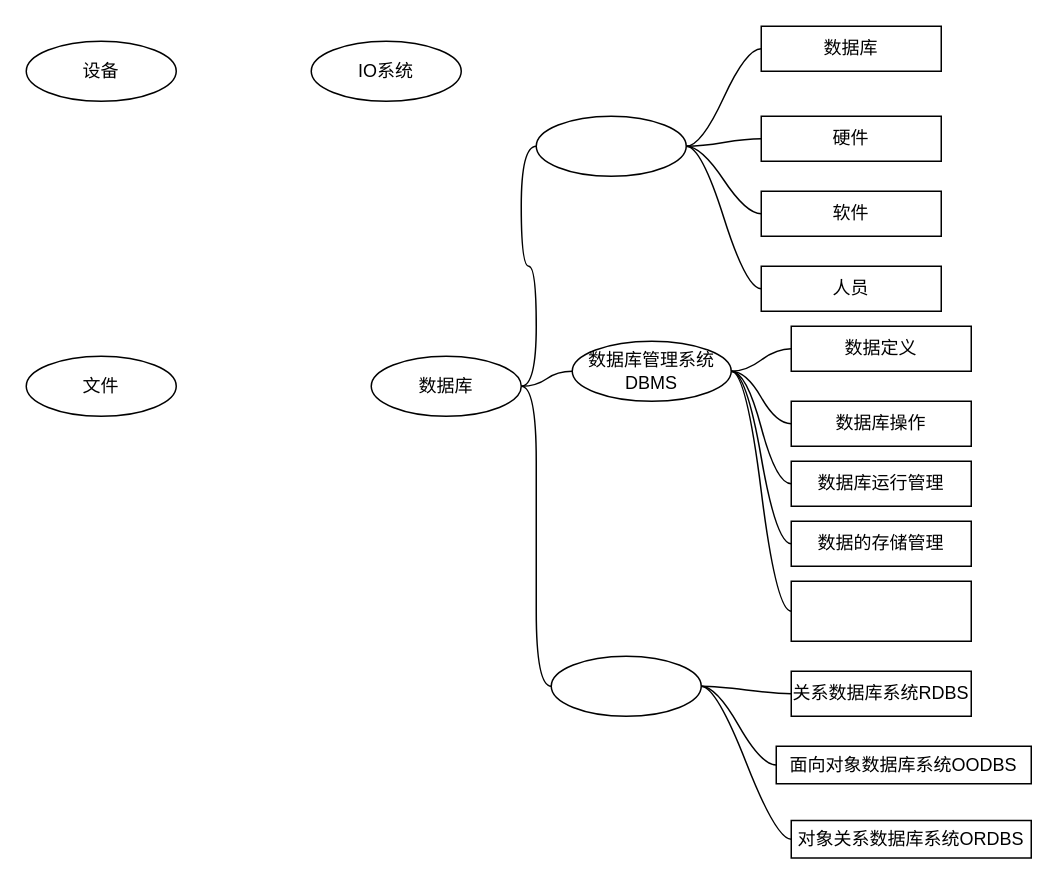
The diagram is 1058 pixels wide and 885 high, and some of its shapes have lost their labels. The shapes that lost their labels are listed below. From the top down, each one's centre as x and y in pixels, then its label:
At [610,145]: "数据库系统DMS".
At [880,610]: "数据库的建立和维护".
At [625,685]: "DBMS分类".
